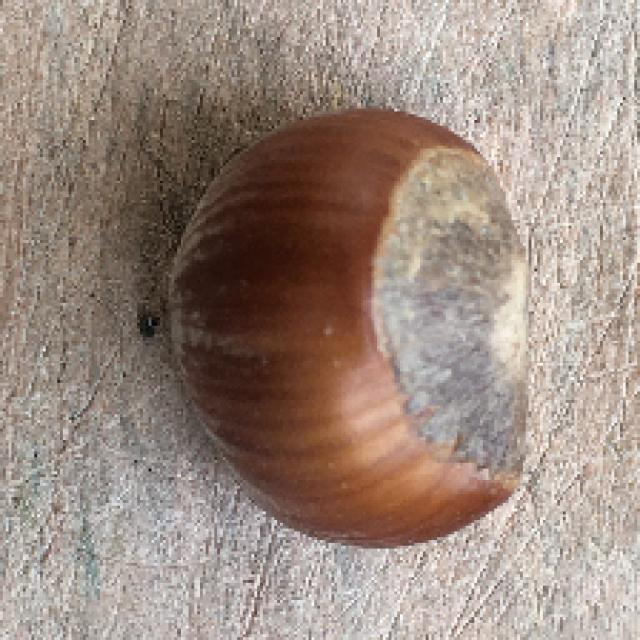damagedHazelnut: (167, 98, 536, 546)
